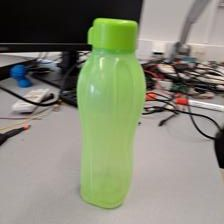bottle: (70, 15, 147, 205)
